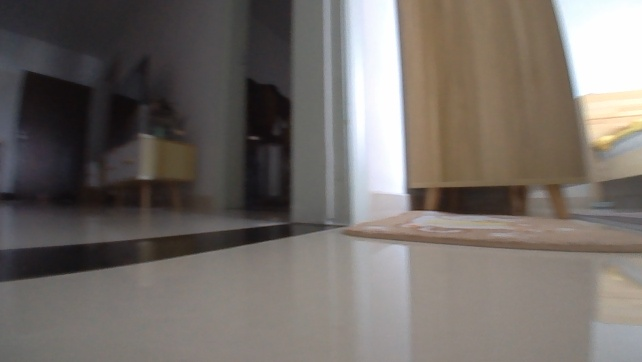bed1: (566, 85, 641, 201)
blanket: (339, 204, 641, 255)
